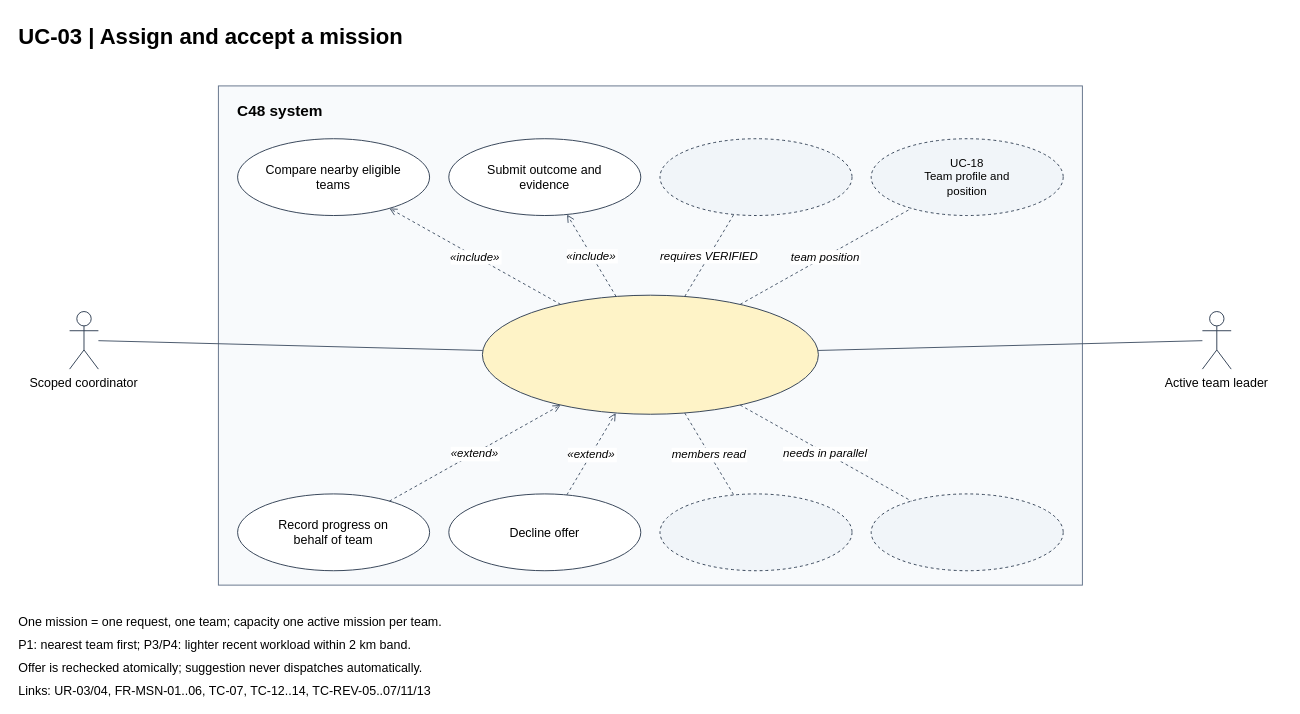
The diagram is 1300 pixels wide and 714 high, and some of its shapes have lost their labels. Each missing label, with the centre of its shape:
UC-02 Verify and triage: (x=755, y=177)
UC-03 Assign and accept a mission: (x=649, y=354)
UC-04 Commit and fulfill need: (x=966, y=532)
UC-17 View assigned missions: (x=755, y=532)
